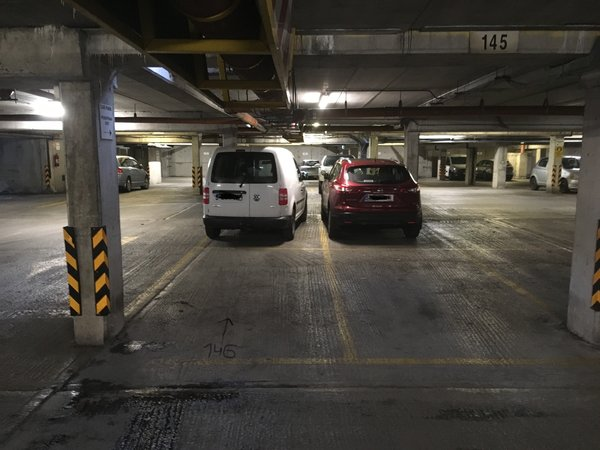car: (193, 141, 311, 237), (322, 157, 426, 240)
